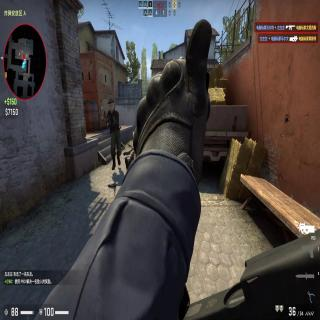T-Body: (105, 100, 122, 170)
T-Head: (108, 99, 115, 112)
